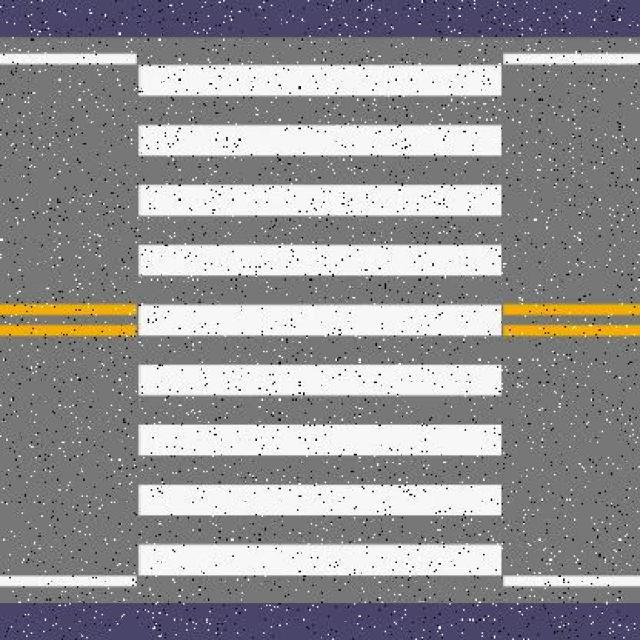crosswalk: (134, 63, 505, 580)
